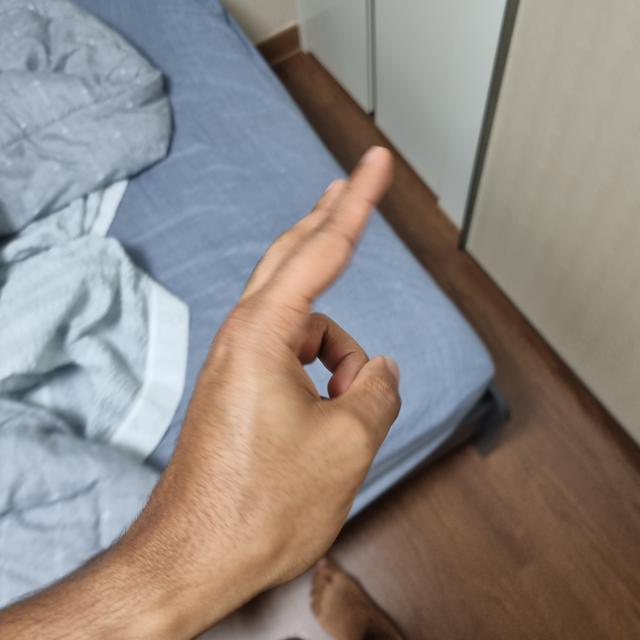Scissors: (157, 155, 400, 599)
